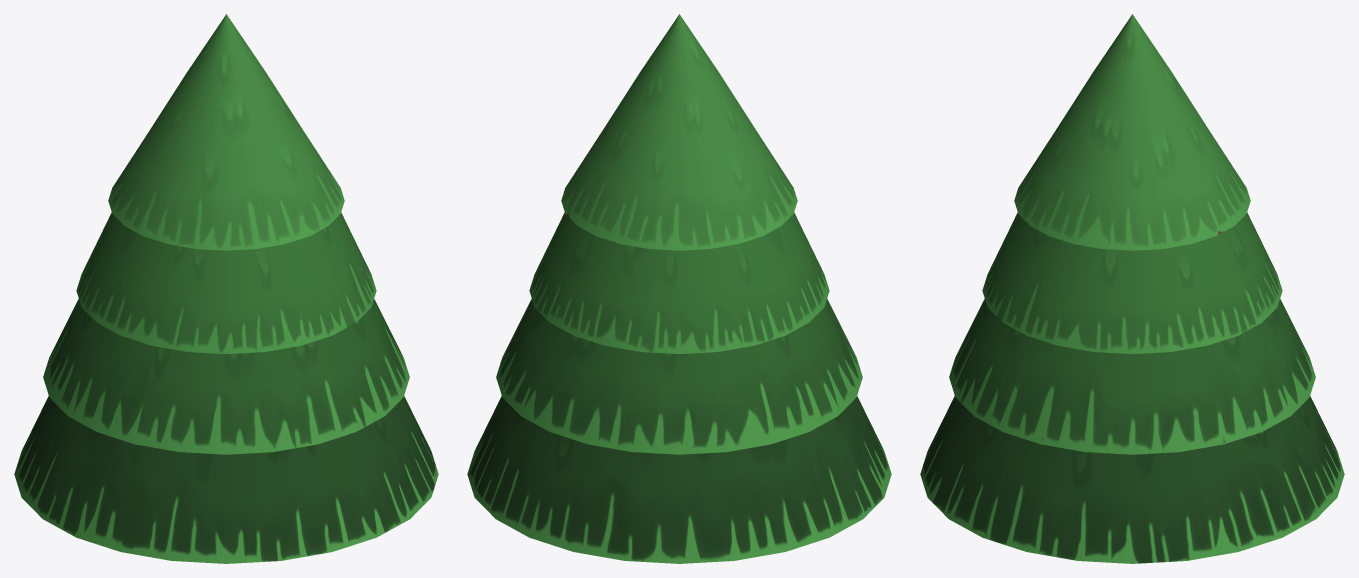
File: TreeCon.FBX
3 renders of one model, left to right at view 1: azimuth 30°, elevation 25°; view 2: azimuth 150°, elevation 25°; view 3: azimuth 270°, elevation 25°, orthographic.
Parts seen in each view (by area): view 1: Cylinder001; view 2: Cylinder001; view 3: Cylinder001.
Part boxes in pixels (x1,y1,x2,y2): Cylinder001: [14, 14, 438, 563]; Cylinder001: [467, 14, 891, 563]; Cylinder001: [920, 14, 1344, 563].
Bounding box in the file's own units: 2.88 × 2.88 × 3.92.
1 material, 1 textured.
